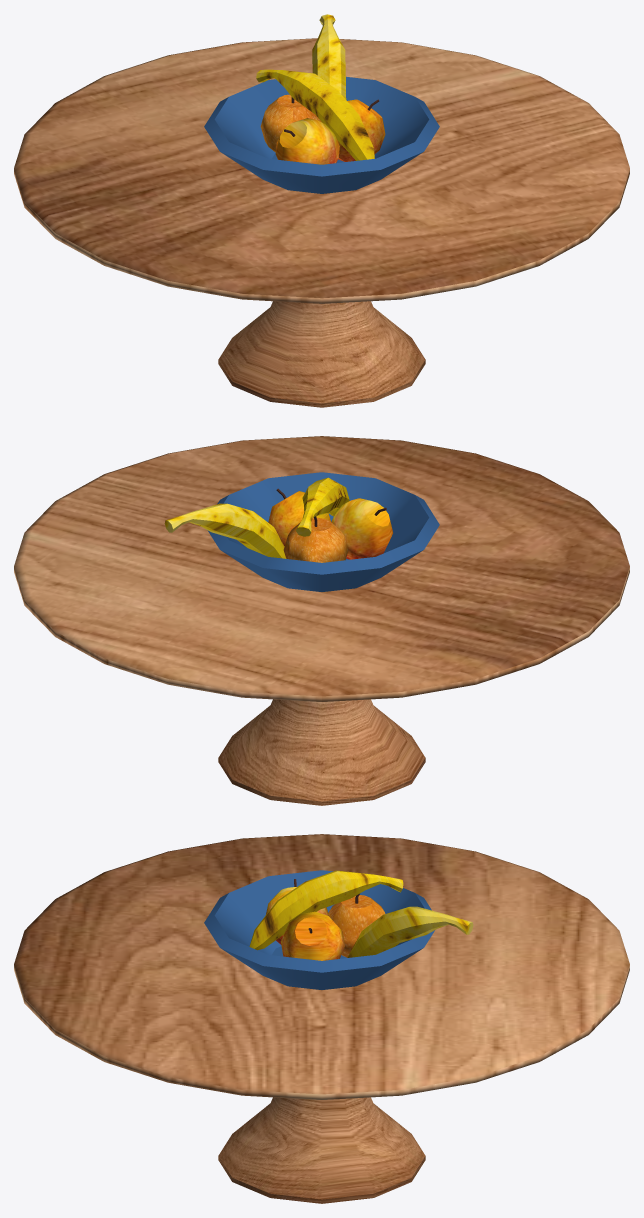
File: fruit bowl.fbx
The picture shows the model from 3 angles, top to bottom: view 1: azimuth 30°, elevation 25°; view 2: azimuth 150°, elevation 25°; view 3: azimuth 270°, elevation 25°; orthographic projection.
Visible parts, largest first — view 1: FruitBowl1; view 2: FruitBowl1; view 3: FruitBowl1.
Boxes of the visible parts, x1,y1,x2,y2 form: FruitBowl1: (14,14,629,407); FruitBowl1: (14,436,629,805); FruitBowl1: (14,834,629,1203).
Size of the model in its own units: 17.65 by 9.04 by 17.65.
5 materials, 5 textured.
